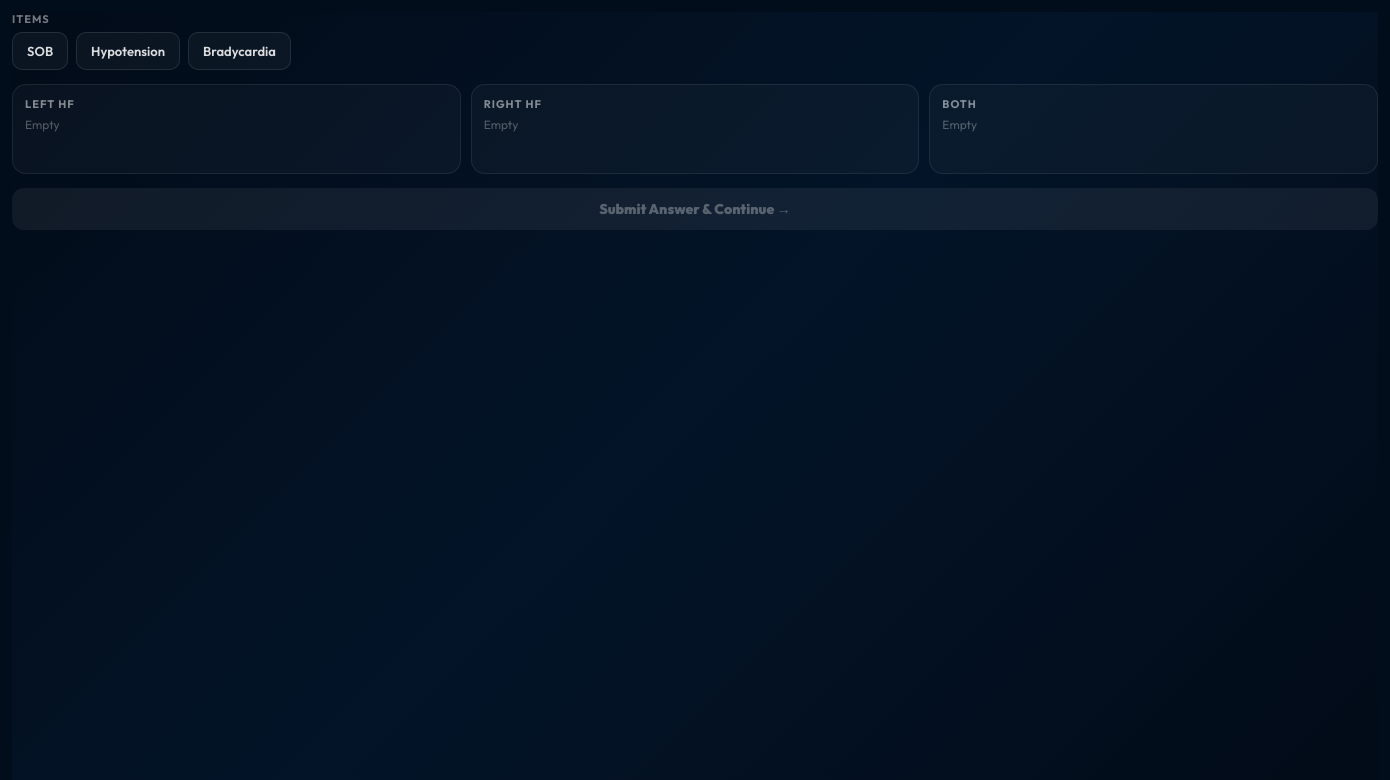
DragDropCard › Submit is disabled until every item is assigned
Expected: the button "Submit Answer & Continue →" is disabled, [12,188,1378,230]
Click the button "SOB" at (40, 51), box [12,32,68,70]
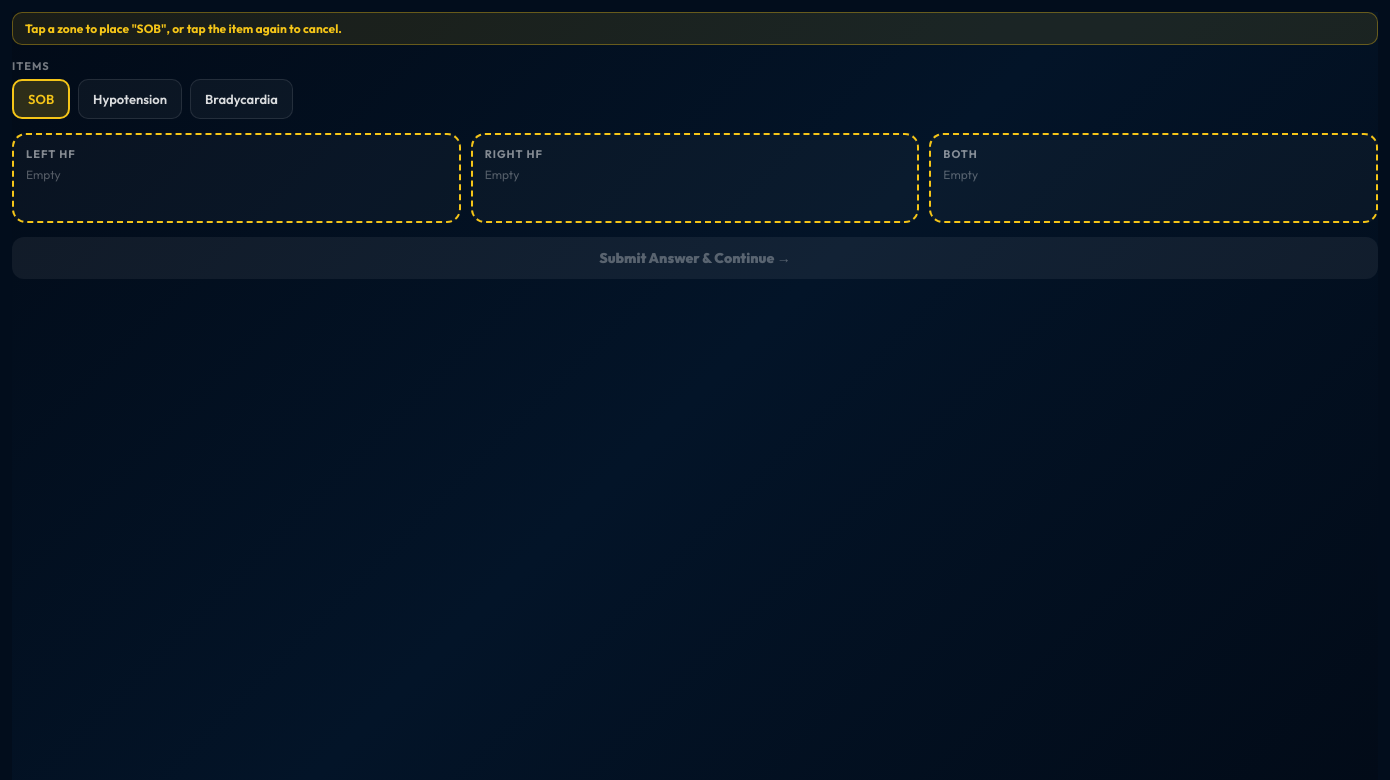
Click the button with aria-label "Zone Left HF" at (51, 154), box [12,133,461,223]
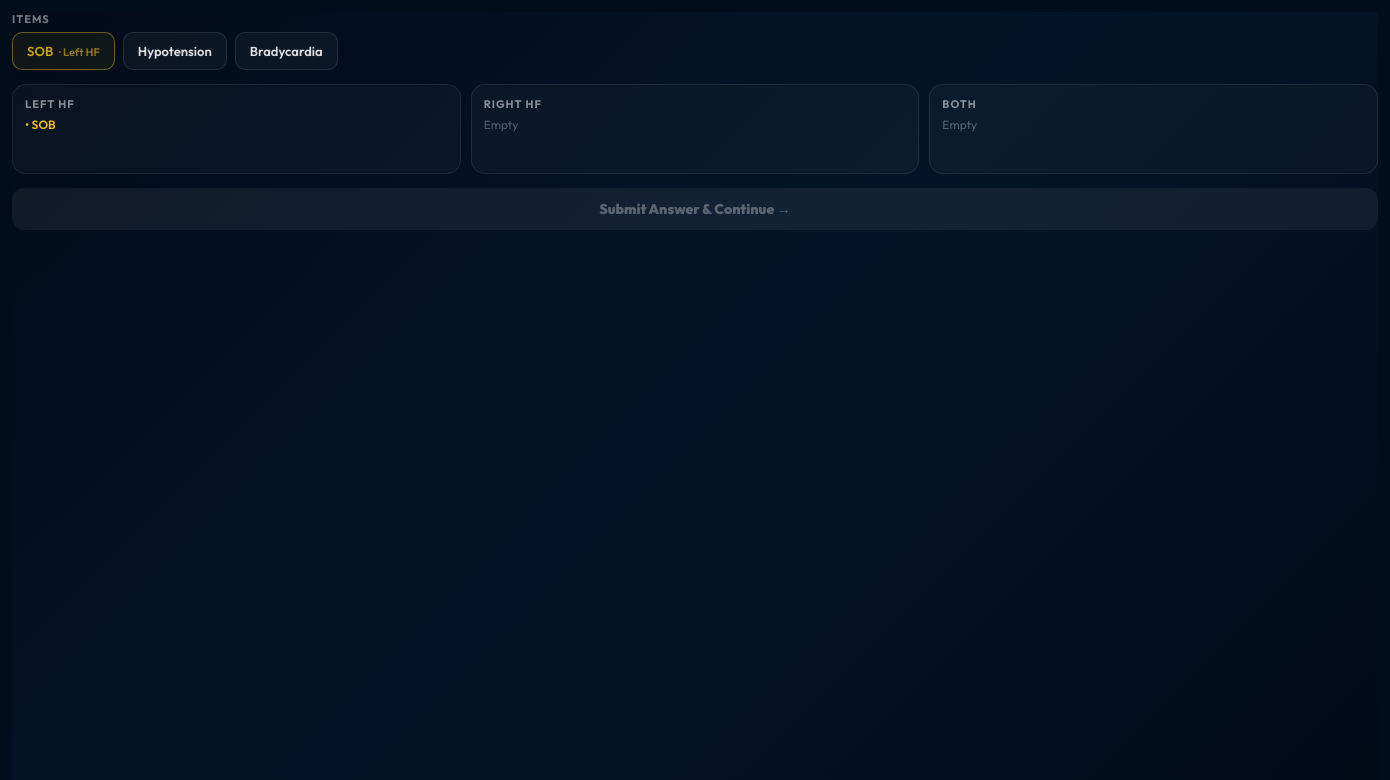
Expected: the button "Submit Answer & Continue →" is disabled, [12,188,1378,230]
Click the button "Hypotension" at (175, 51), box [123,32,227,70]
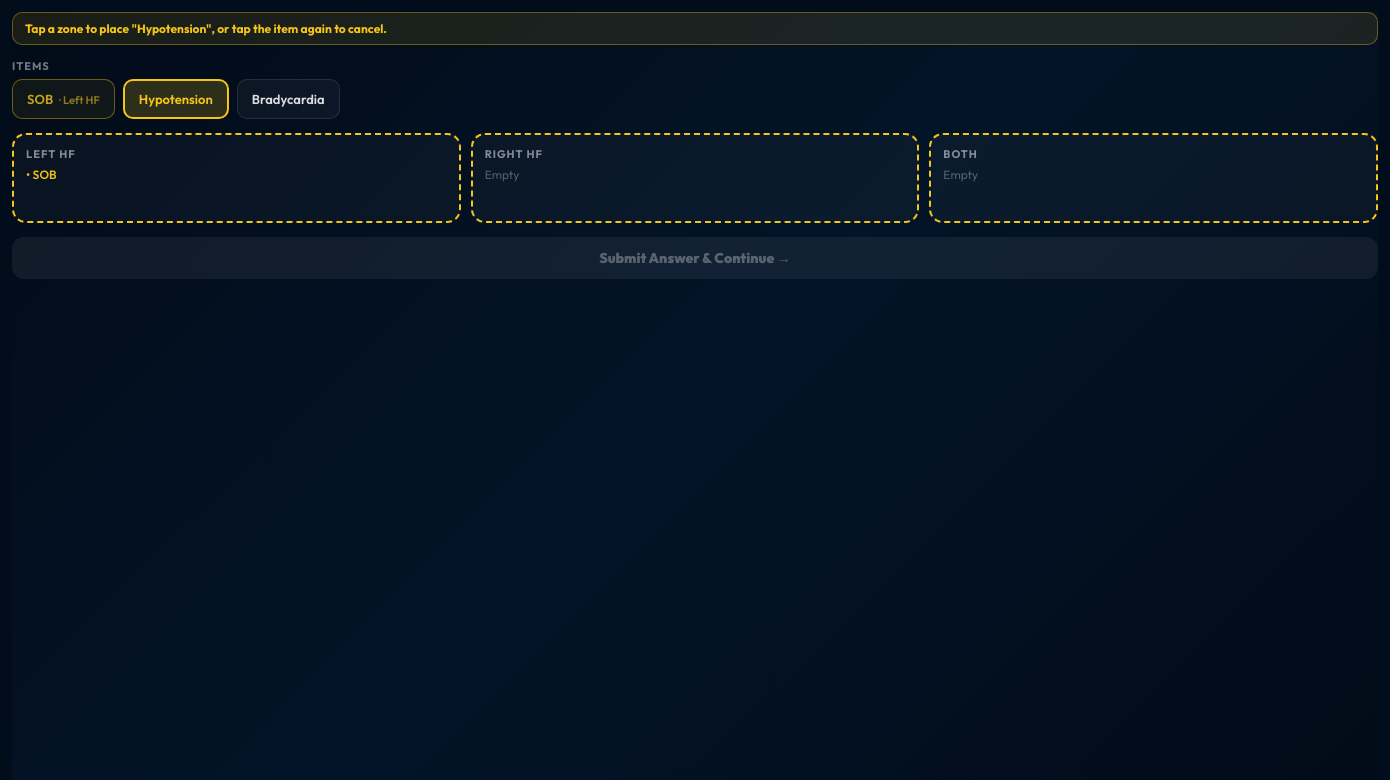
Click the button with aria-label "Zone Both" at (961, 154), box [929,133,1378,223]
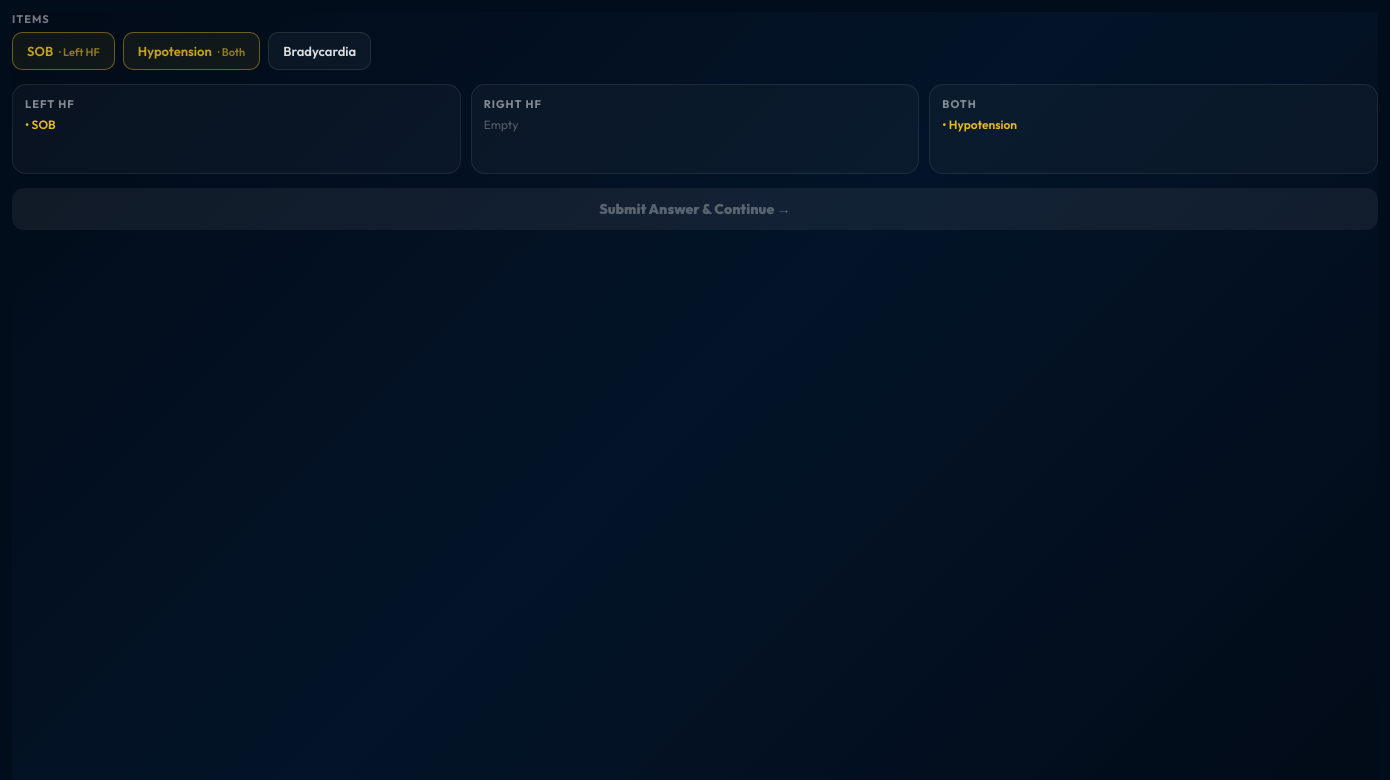
Click the button "Bradycardia" at (320, 51), box [268,32,371,70]
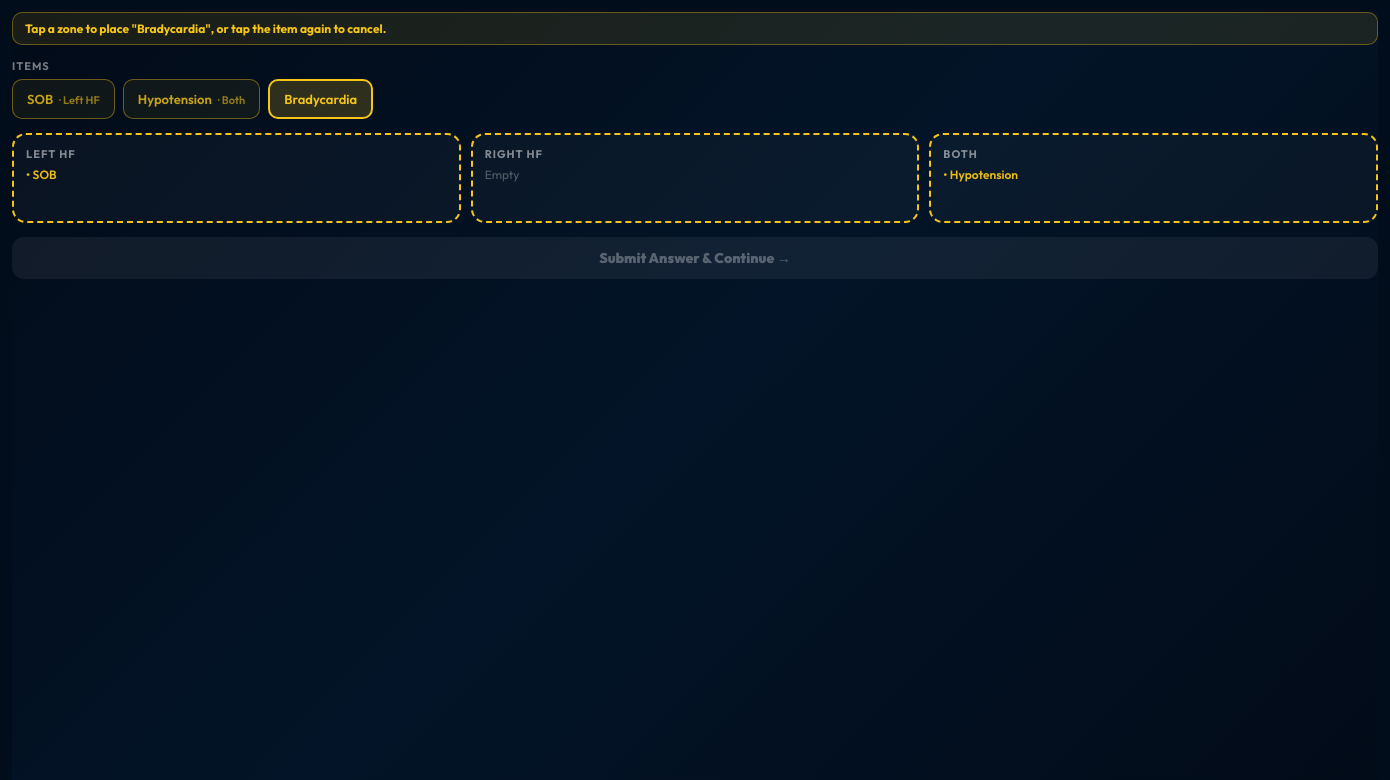
Click the button with aria-label "Zone Right HF" at (514, 154), box [471,133,919,223]
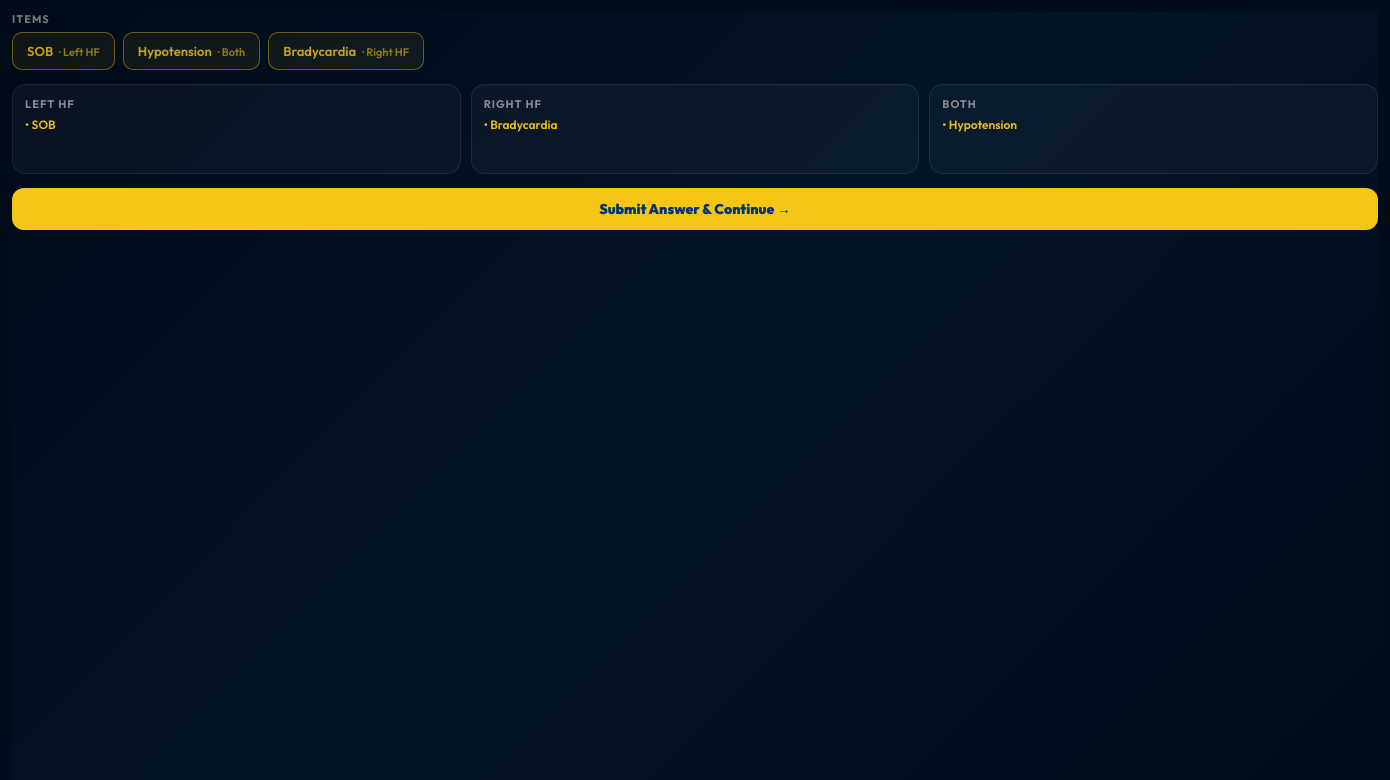
Now the button "Submit Answer & Continue →" is enabled, box [12,188,1378,230]
